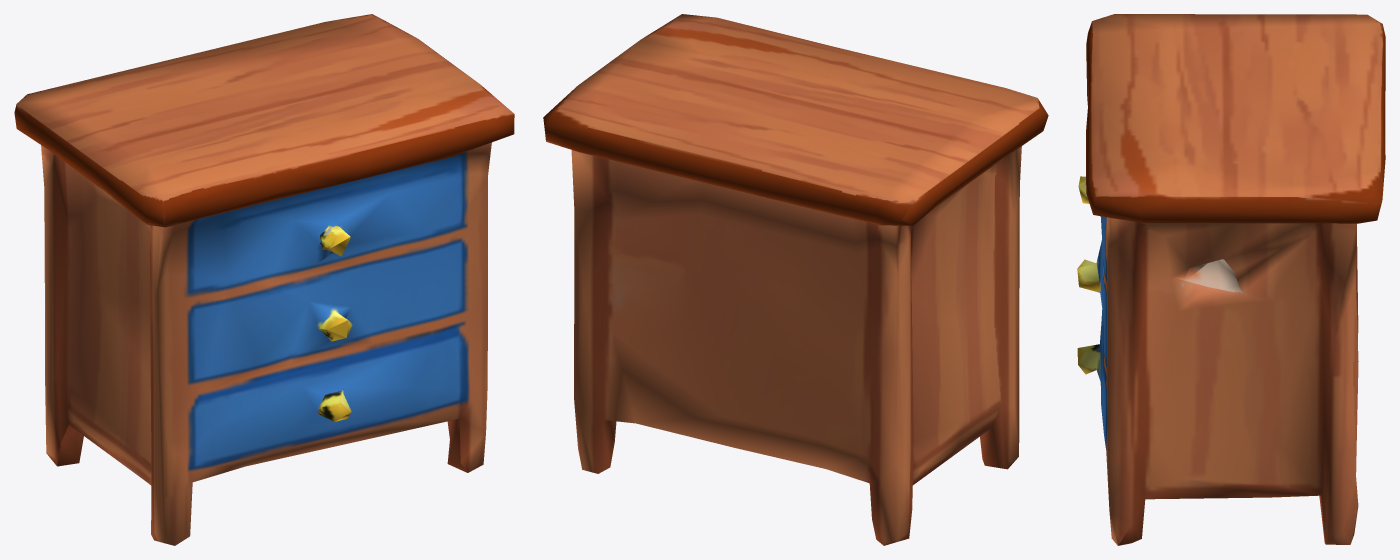
The model's file is teacher-desk.glb.
3 views of the same model, side by side, from view 1: azimuth 30°, elevation 25°; view 2: azimuth 150°, elevation 25°; view 3: azimuth 270°, elevation 25° (orthographic).
Visible parts, largest first — view 1: geometry_0.001; view 2: geometry_0.001; view 3: geometry_0.001.
Boxes of the visible parts, left/top/right/bottom form: geometry_0.001: left=14, top=14, right=514, bottom=545; geometry_0.001: left=543, top=14, right=1048, bottom=545; geometry_0.001: left=1077, top=14, right=1385, bottom=545.
Size of the model in its own units: 0.9995 by 0.927 by 0.7046.
Materials: 1 (1 with a texture image).
